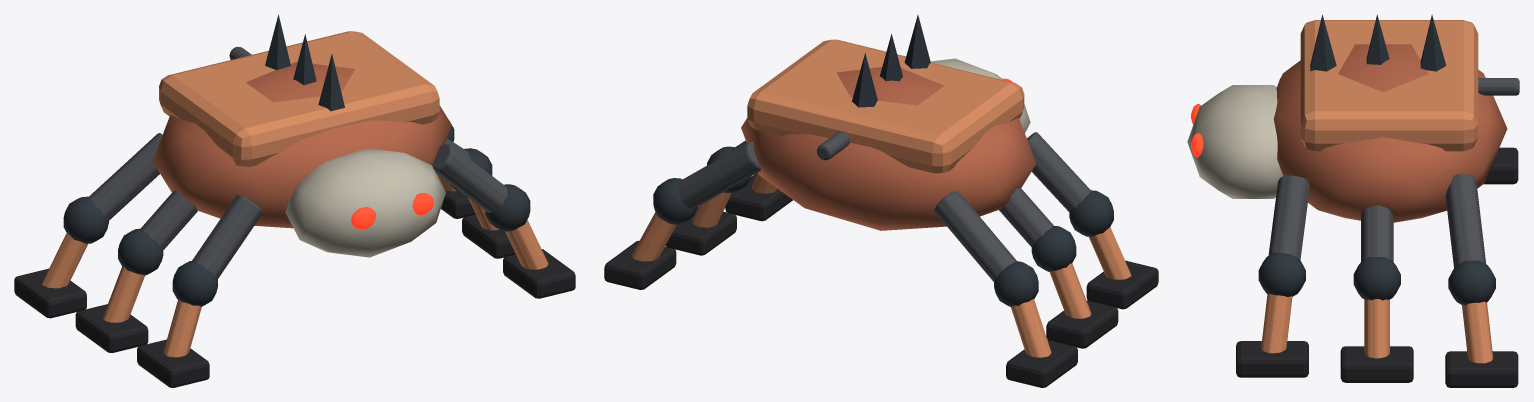
Rendered from mars-crawler.glb.
3 views of the same model, side by side, from view 1: azimuth 30°, elevation 25°; view 2: azimuth 150°, elevation 25°; view 3: azimuth 270°, elevation 25° (orthographic). The views are drawn at different scales.
Visible parts, largest first — view 1: mars-crawler; view 2: mars-crawler; view 3: mars-crawler.
Boxes of the visible parts, left/top/right/bottom form: mars-crawler: left=14, top=14, right=575, bottom=387; mars-crawler: left=604, top=15, right=1158, bottom=387; mars-crawler: left=1187, top=14, right=1519, bottom=387.
Size of the model in its own units: 4.36 by 2.39 by 2.73.
